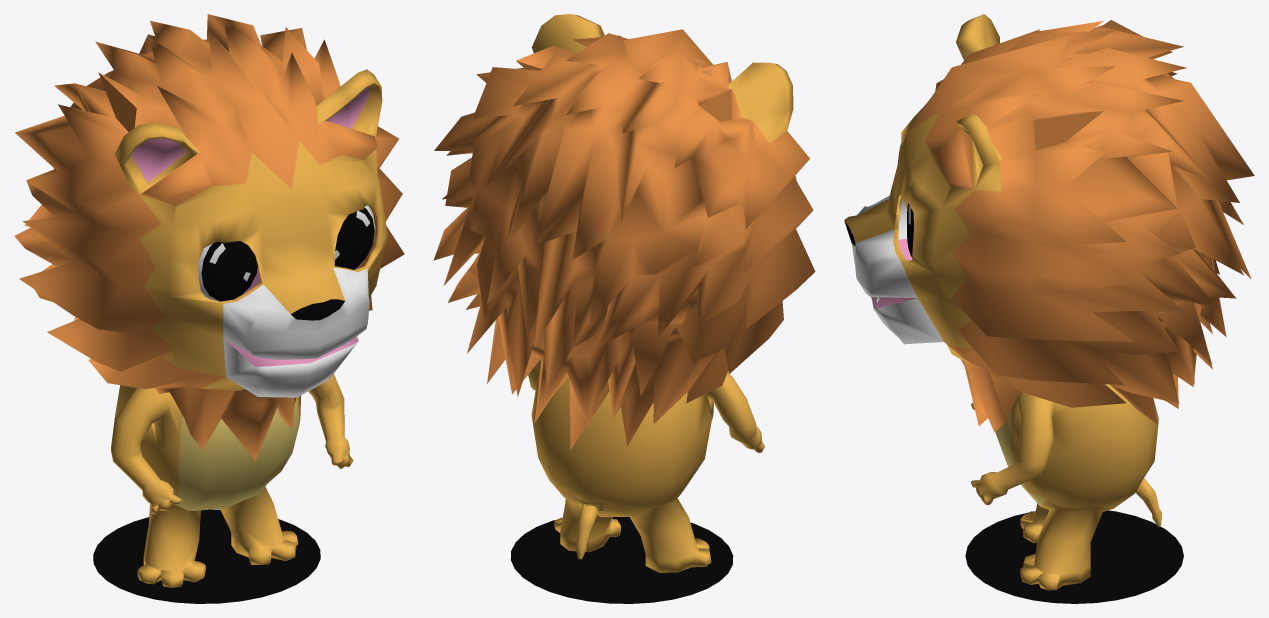
The model's file is gaore.glb.
3 views of the same model, side by side, from view 1: azimuth 30°, elevation 25°; view 2: azimuth 150°, elevation 25°; view 3: azimuth 270°, elevation 25° (orthographic). The views are drawn at different scales.
Visible parts, largest first — view 1: gaorehead.002; view 2: gaorehead.002; view 3: gaorehead.002.
Boxes of the visible parts, x1=… form: gaorehead.002: x1=14, y1=14, x2=404, y2=603; gaorehead.002: x1=433, y1=14, x2=815, y2=603; gaorehead.002: x1=844, y1=14, x2=1254, y2=603.
Bounding box in the file's own units: 2.08 × 3.34 × 2.38.
